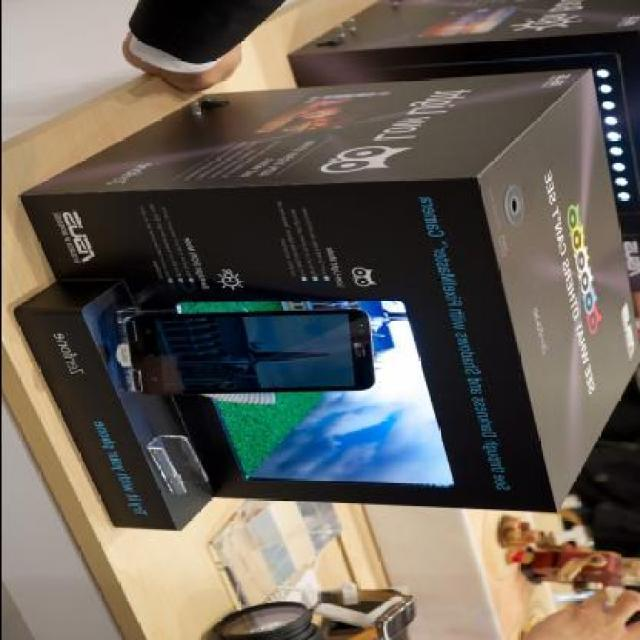phone: (126, 306, 388, 403), (377, 597, 415, 640)
